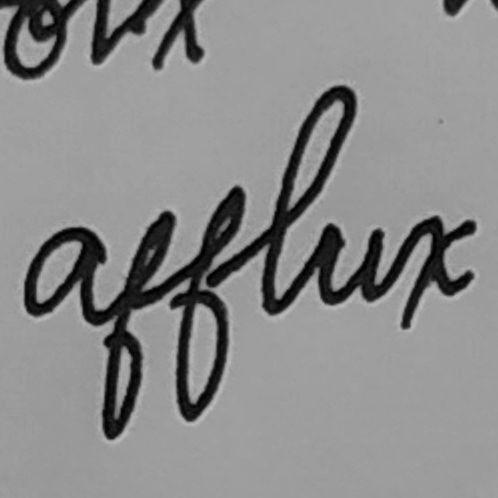a: (20, 221, 108, 329)
f: (97, 202, 184, 442), (173, 181, 250, 423)
l: (258, 81, 360, 319)
u: (309, 217, 388, 312)
x: (390, 206, 482, 334)
